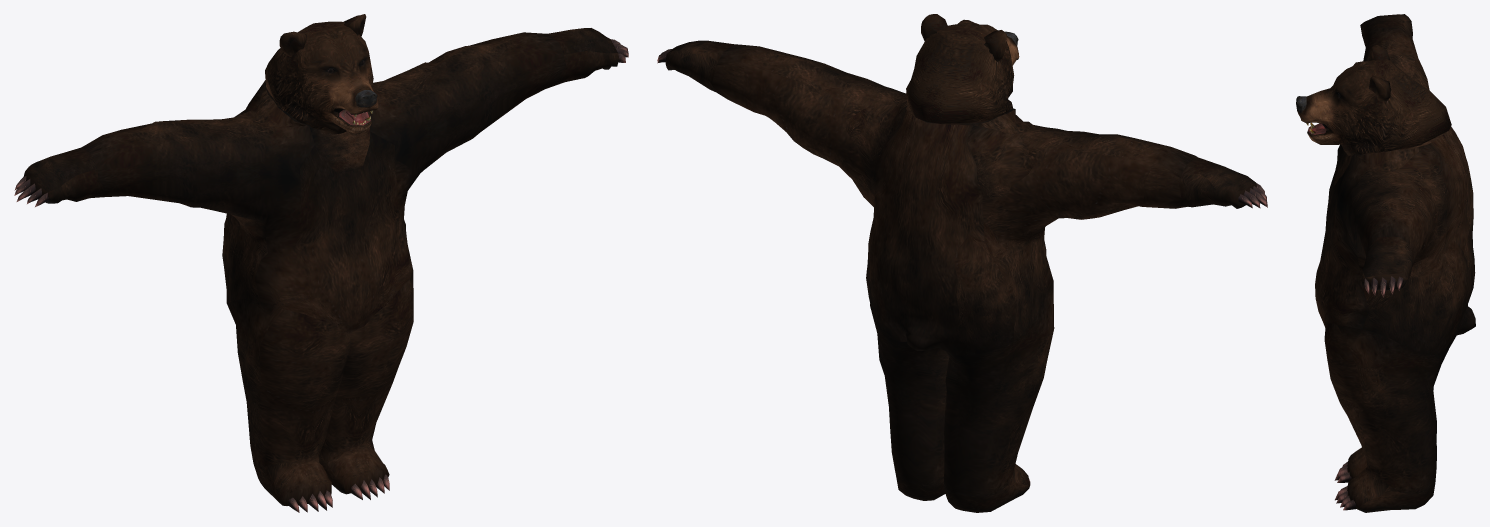
File: bear.glb
The picture shows the model from 3 angles, left to right: view 1: azimuth 30°, elevation 25°; view 2: azimuth 150°, elevation 25°; view 3: azimuth 270°, elevation 25°; orthographic projection. The views are drawn at different scales.
Parts seen in each view (by area): view 1: kuma1u.obj; view 2: kuma1u.obj; view 3: kuma1u.obj.
Part boxes in pixels (box(x1,y1,x2,y2)): kuma1u.obj: box(14, 14, 628, 512); kuma1u.obj: box(657, 14, 1267, 512); kuma1u.obj: box(1296, 14, 1475, 512).
Bounding box in the file's own units: 3.74 × 2.73 × 1.04.
Materials: 8 (8 with a texture image).
